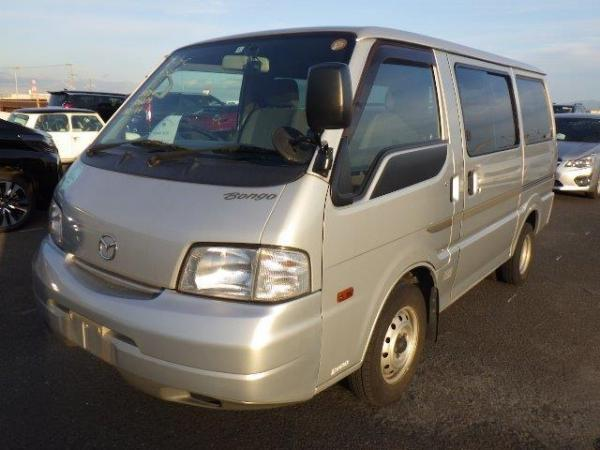Van: (45, 19, 557, 396)
